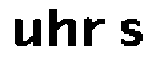h: (44, 4, 77, 51)
r: (82, 16, 107, 50)
s: (116, 19, 147, 52)
u: (8, 16, 42, 48)
